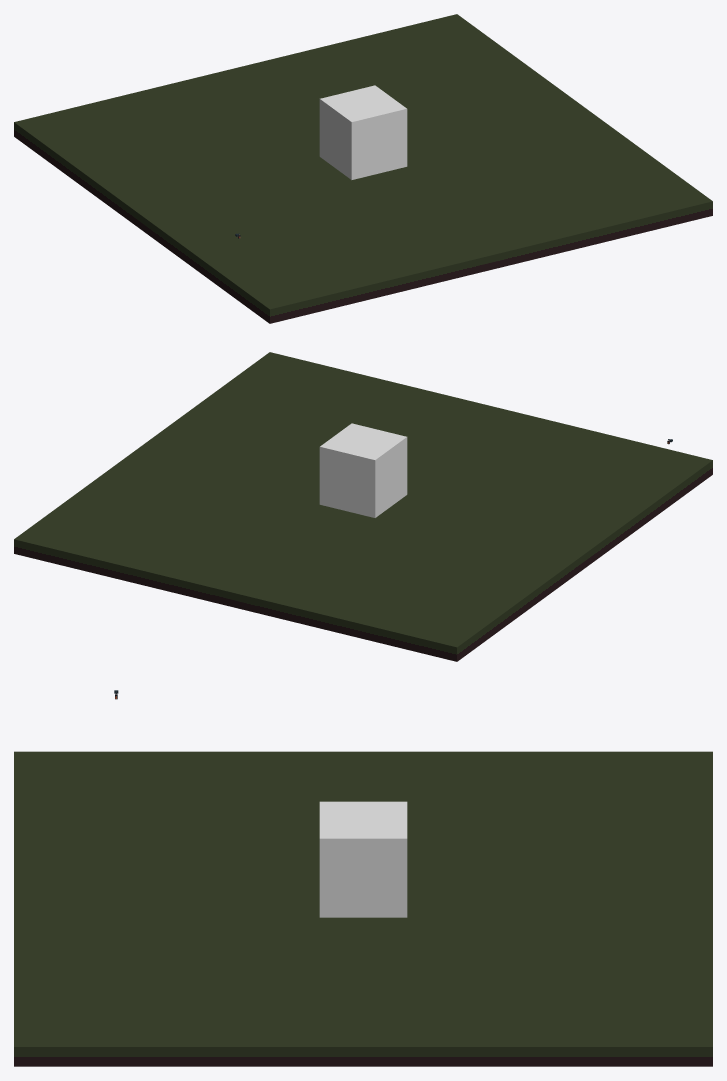
The model's file is lich_room.glb.
The picture shows the model from 3 angles, top to bottom: view 1: azimuth 30°, elevation 25°; view 2: azimuth 150°, elevation 25°; view 3: azimuth 270°, elevation 25°; orthographic projection. The views are drawn at different scales.
Visible parts, largest first — view 1: FLOOR_1, SPAWN_lich; view 2: FLOOR_1, SPAWN_lich; view 3: FLOOR_1, SPAWN_lich.
Part boxes in pixels (x1,y1,x2,y2): FLOOR_1: (14,14,712,323); SPAWN_lich: (319,85,407,179); FLOOR_1: (14,352,712,661); SPAWN_lich: (319,423,407,517); FLOOR_1: (14,751,712,1066); SPAWN_lich: (319,801,407,917).
Size of the model in its own units: 16 by 2.5 by 16.
2 materials, 2 textured.
